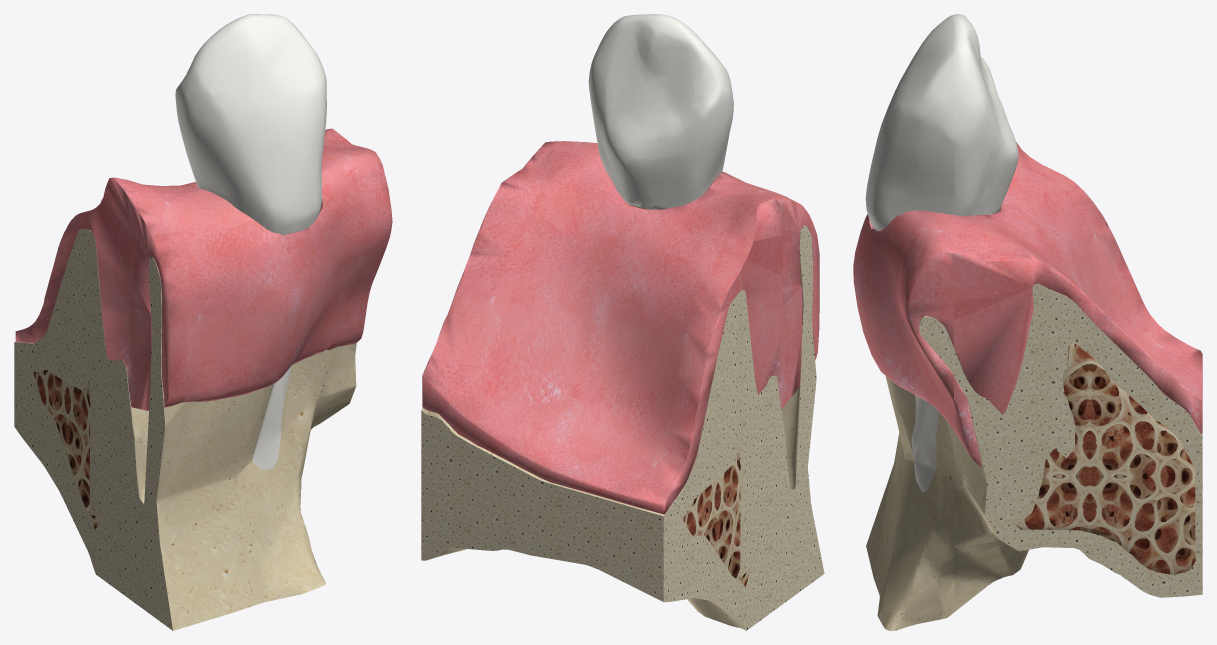
The picture shows the model from 3 angles, left to right: view 1: azimuth 30°, elevation 25°; view 2: azimuth 150°, elevation 25°; view 3: azimuth 270°, elevation 25°; orthographic projection. The views are drawn at different scales.
Parts seen in each view (by area): view 1: gingiva_b, kompakta_b, kompakta_a, schmelz_b, gingiva_a, spongiosa_a, lamina_dura_b, schmelz_a; view 2: gingiva_a, kompakta_a, schmelz_a, kompakta_b, gingiva_b, spongiosa_a, schmelz_b; view 3: gingiva_a, kompakta_a, spongiosa_a, gingiva_b, kompakta_b, schmelz_b, schmelz_a, lamina_dura_b.
Part boxes in pixels (x1,y1,x2,y2): gingiva_b: (131,149,392,410); kompakta_b: (131,257,325,630); kompakta_a: (14,229,356,600); schmelz_b: (184,18,326,235); gingiva_a: (15,128,369,406); spongiosa_a: (33,370,101,529); lamina_dura_b: (252,365,291,470); schmelz_a: (175,14,297,189); gingiva_a: (422,147,782,514); kompakta_a: (421,290,782,630); schmelz_a: (588,14,729,209); kompakta_b: (781,225,824,603); gingiva_b: (541,141,819,407); spongiosa_a: (682,449,751,586); schmelz_b: (666,15,733,188); gingiva_a: (954,142,1202,467); kompakta_a: (954,283,1202,612); spongiosa_a: (1015,343,1195,574); gingiva_b: (853,210,953,429); kompakta_b: (866,316,953,630); schmelz_b: (865,15,953,230); schmelz_a: (954,14,1018,216); lamina_dura_b: (911,395,939,492).
Size of the model in its own units: 0.016 by 0.0353 by 0.019.
Materials: 21 (8 with a texture image).
